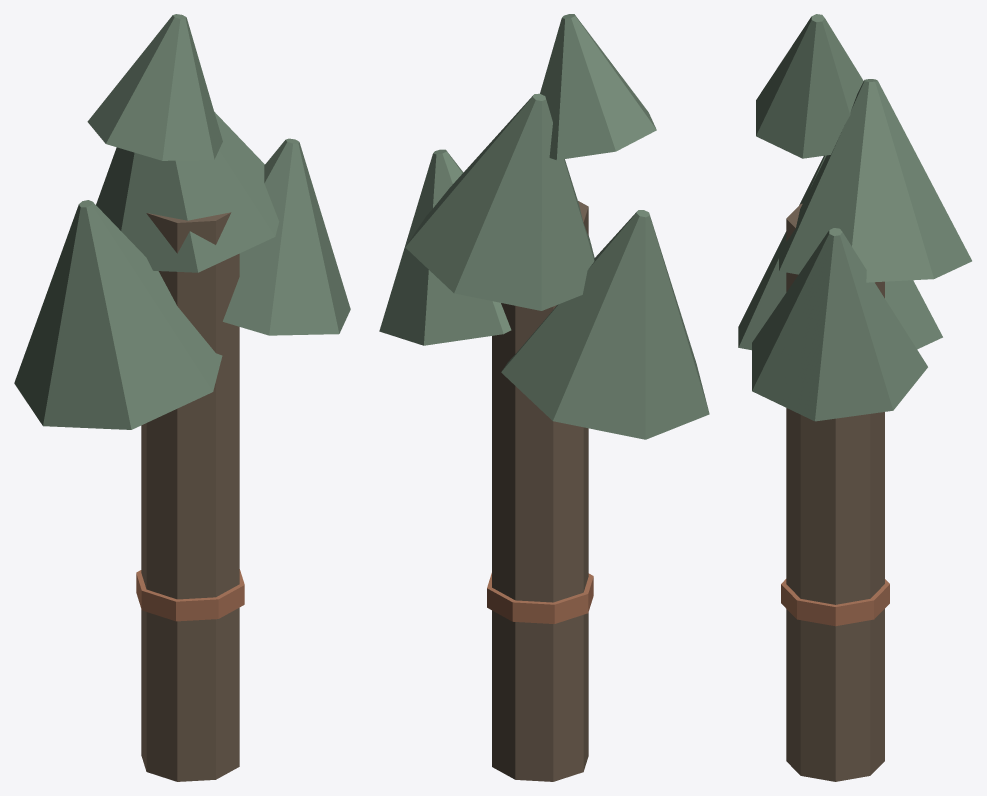
File: ash_tree.glb
3 renders of one model, left to right at view 1: azimuth 30°, elevation 25°; view 2: azimuth 150°, elevation 25°; view 3: azimuth 270°, elevation 25°, orthographic. The views are drawn at different scales.
Parts seen in each view (by area): view 1: Trunk, AshCrown_0, AshCrown_2, AshCrown_1, AshCrown_3, RustBand; view 2: Trunk, AshCrown_0, AshCrown_2, AshCrown_3, AshCrown_1, RustBand; view 3: Trunk, AshCrown_1, AshCrown_2, AshCrown_3, AshCrown_0, RustBand.
Boxes of the visible parts, bbox=[...] form: Trunk: bbox=[141, 212, 239, 781]; AshCrown_0: bbox=[14, 200, 222, 429]; AshCrown_2: bbox=[96, 112, 279, 272]; AshCrown_1: bbox=[223, 138, 350, 335]; AshCrown_3: bbox=[87, 14, 222, 160]; RustBand: bbox=[136, 569, 244, 621]; Trunk: bbox=[492, 201, 588, 781]; AshCrown_0: bbox=[501, 210, 709, 439]; AshCrown_2: bbox=[405, 93, 594, 310]; AshCrown_3: bbox=[540, 14, 656, 160]; AshCrown_1: bbox=[379, 149, 511, 345]; RustBand: bbox=[487, 573, 593, 623]; Trunk: bbox=[786, 203, 884, 781]; AshCrown_1: bbox=[752, 228, 927, 421]; AshCrown_2: bbox=[779, 79, 971, 282]; AshCrown_3: bbox=[756, 14, 863, 158]; AshCrown_0: bbox=[738, 155, 942, 350]; RustBand: bbox=[781, 579, 889, 626].
Size of the model in its own units: 1.97 by 4.61 by 1.33.
